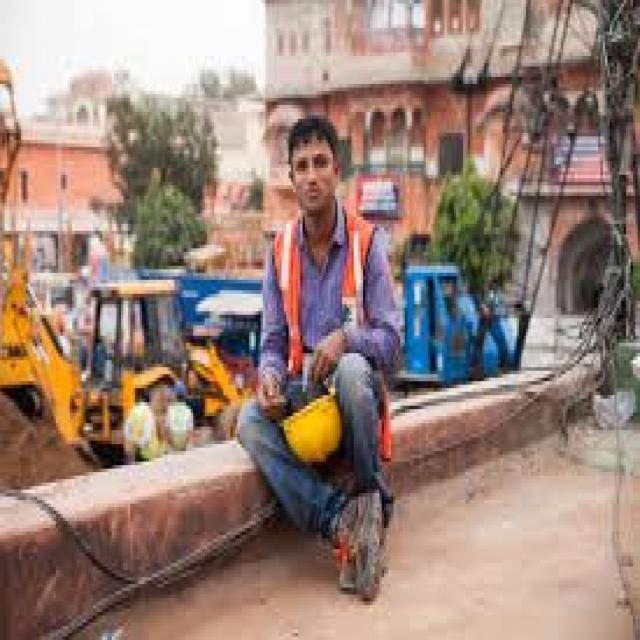reflective_jacket: (251, 206, 395, 479)
safety_helmet: (281, 389, 348, 471)
